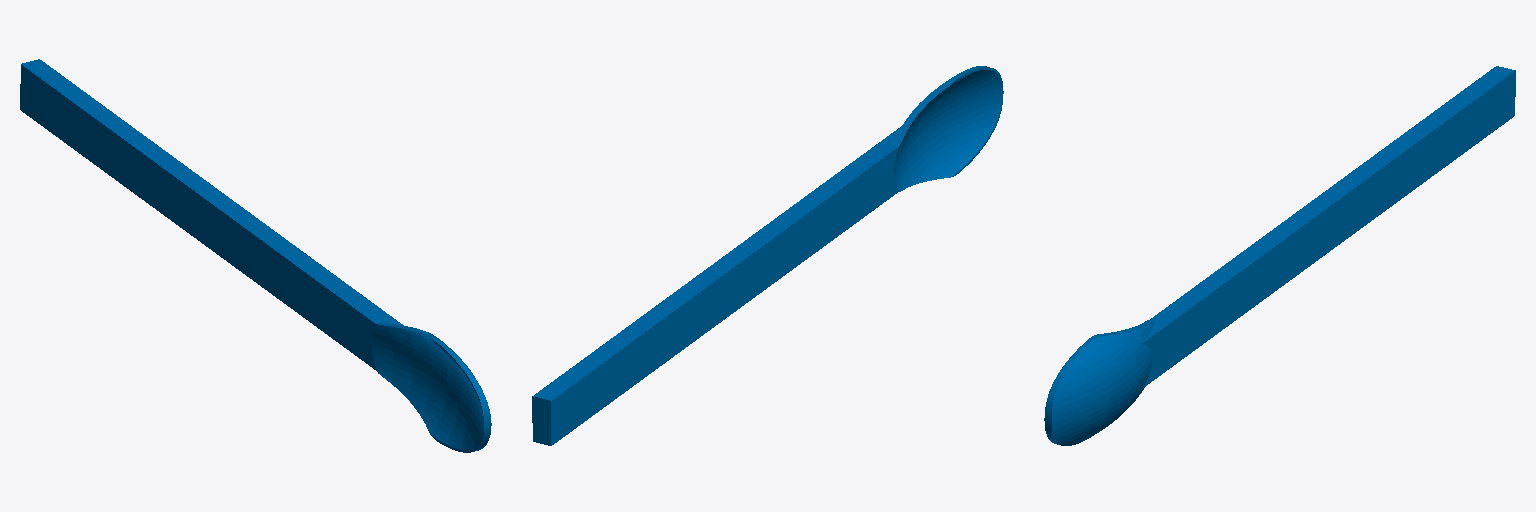
URDF robot description (bucket):
<?xml version="1.0"?>

<robot name="bucket">

  <link name="z_link">
    <visual>
      <!-- <geometry>
        <box size="0.03 10 0.03"/>
      </geometry>
      <material name="slider_mat">
        <color rgba="0.9 0.6 0.2 1"/>
      </material> -->
    </visual>
  </link>

  <joint name="bucket_slider_y" type="prismatic">
    <axis xyz="0 0 1"/>
    <origin xyz="0 0 0"/>
    <parent link="z_link"/>
    <child link="y_link"/>
    <limit effort="1000.0" velocity="100"/>
  </joint>

  <link name="y_link">
    <visual>
      <!-- <geometry>
        <box size="0.03 0.03 10.0"/>
      </geometry>
      <material name="slider_mat">
        <color rgba="0.9 0.6 0.2 1"/>
      </material> -->
    </visual>
  </link>


  <joint name="bucket_slider_z" type="prismatic">
    <axis xyz="0 1 0"/>
    <origin xyz="0 0 0"/>
    <parent link="y_link"/>
    <child link="x_link"/>
    <limit effort="1000.0" velocity="100"/>
  </joint>

  <link name="x_link">
    <visual>
      <!-- <geometry>
        <box size="10 0.03 0.03"/>
      </geometry>
      <material name="slider_mat">
        <color rgba="0.9 0.6 0.2 1"/>
      </material> -->
    </visual>
  </link>

  <joint name="bucket_slider_x" type="prismatic">
    <axis xyz="1 0 0"/>
    <origin xyz="0 0 0"/>
    <parent link="x_link"/>
    <child link="ee_link"/>
    <limit effort="1000.0" velocity="100"/>
  </joint>

  <link name="ee_link">
    <visual>
      <geometry>
        <ball size="0.1 0.1 0.1"/>
      </geometry>
      <material name="slider_mat">
        <color rgba="0.9 0.6 0.2 1"/>
      </material>
    </visual>
  </link>

  <joint name="bucket_joint_r" type="continuous">
    <axis xyz="1 0 0"/>
    <origin xyz="0 0 0"/>
    <parent link="ee_link"/>
    <child link="bucket_link"/>
    <limit effort="1000.0" velocity="100"/>
  </joint>
  
  <link name="bucket_link">
    <visual>
      <geometry>
        <mesh filename="spoon.dae"/>
      </geometry>
      <origin rpy="0 -1.57 0" xyz="0 0 0"/>
    </visual>
    <collision>
      <geometry>
        <mesh filename="spoon.stl"/>
      </geometry>
      <origin rpy="-1.57 -1.57 0" xyz="0 0 0"/>
    </collision>
  </link>


</robot>

--- What the picture shows (computed from the rendered views, not written in the file) ---
3 views of the same robot in one strip: view 1: azimuth 30°, elevation 25°; view 2: azimuth 150°, elevation 25°; view 3: azimuth 330°, elevation 25° (orthographic).
Robot: bucket — 5 links, 4 joints (1 continuous, 3 prismatic); root link z_link; default pose: every joint at zero.
Visible links, largest first — view 1: bucket_link; view 2: bucket_link; view 3: bucket_link.
Boxes of the visible links, bbox=[...] form: bucket_link: bbox=[20, 59, 491, 452]; bucket_link: bbox=[532, 66, 1003, 445]; bucket_link: bbox=[1044, 66, 1515, 445].
Bounding box of the posed robot: 1.11 × 33 × 3.87 m (x, y, z).
Meshes: 1 distinct files referenced, 1 mesh visuals loaded (1 Collada DAE).